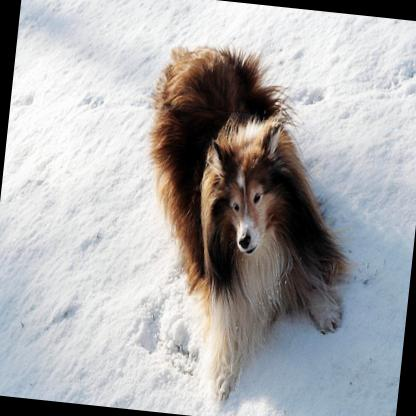Shetland_sheepdog: (121, 40, 374, 412)
